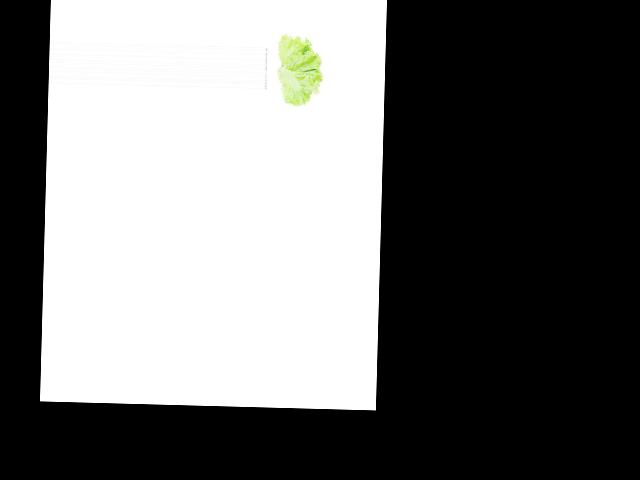lettuce: (267, 33, 324, 108)
